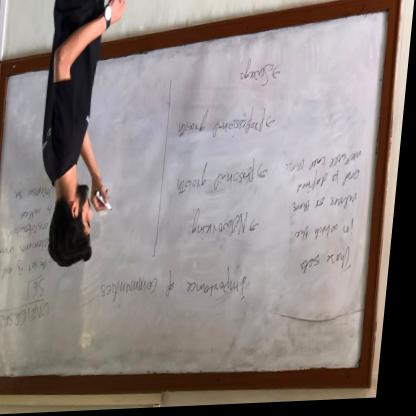Handwritten text: (102, 262, 257, 318), (178, 102, 270, 149), (177, 155, 263, 202), (286, 143, 369, 177), (193, 204, 254, 250), (291, 216, 366, 251), (301, 249, 362, 287), (235, 50, 276, 103), (0, 301, 56, 339), (293, 173, 370, 200), (293, 194, 366, 222), (12, 173, 63, 207), (4, 257, 57, 283), (0, 237, 54, 261), (8, 220, 56, 242), (21, 203, 60, 225), (30, 275, 54, 306)
Lecturer: (23, 26, 140, 277)
Whiteboard: (0, 9, 395, 383)
